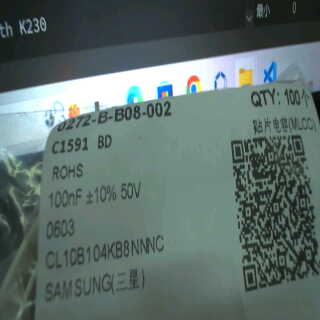100nF: (47, 185, 85, 213)
